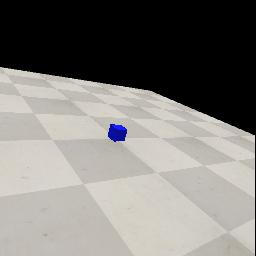box: (108, 124, 127, 142)
